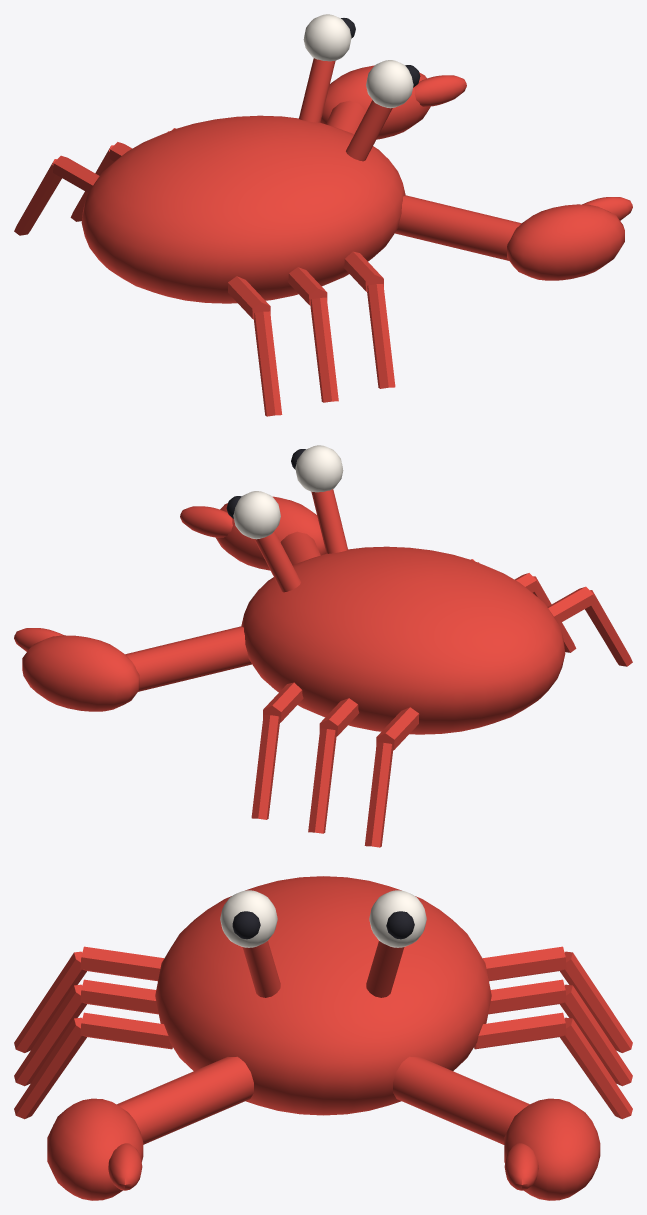
Rendered from crab.glb.
The picture shows the model from 3 angles, top to bottom: view 1: azimuth 30°, elevation 25°; view 2: azimuth 150°, elevation 25°; view 3: azimuth 270°, elevation 25°; orthographic projection. The views are drawn at different scales.
Visible parts, largest first — view 1: crab; view 2: crab; view 3: crab.
Part boxes in pixels (bbox=[...]): crab: bbox=[14, 14, 632, 416]; crab: bbox=[14, 445, 632, 847]; crab: bbox=[14, 876, 632, 1200].
Bounding box in the file's own units: 0.519 × 0.256 × 0.5149.
1 material, 1 textured.
